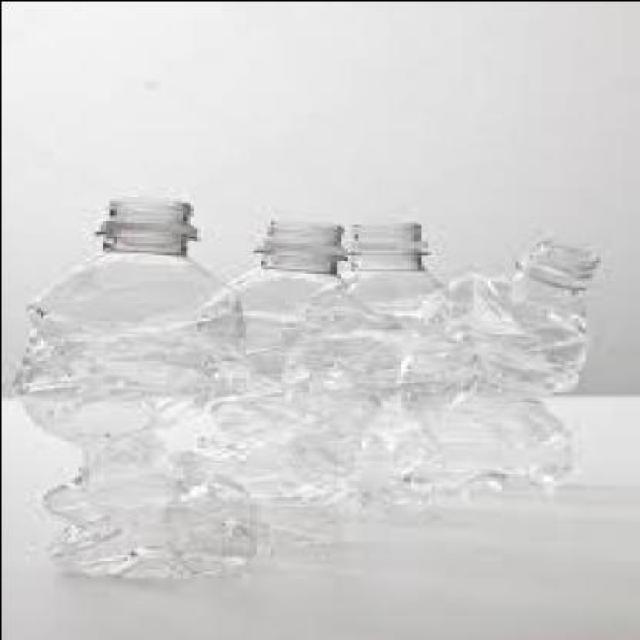PLASTIC: (14, 195, 258, 577), (220, 212, 392, 552), (301, 214, 479, 514), (420, 230, 602, 492)
